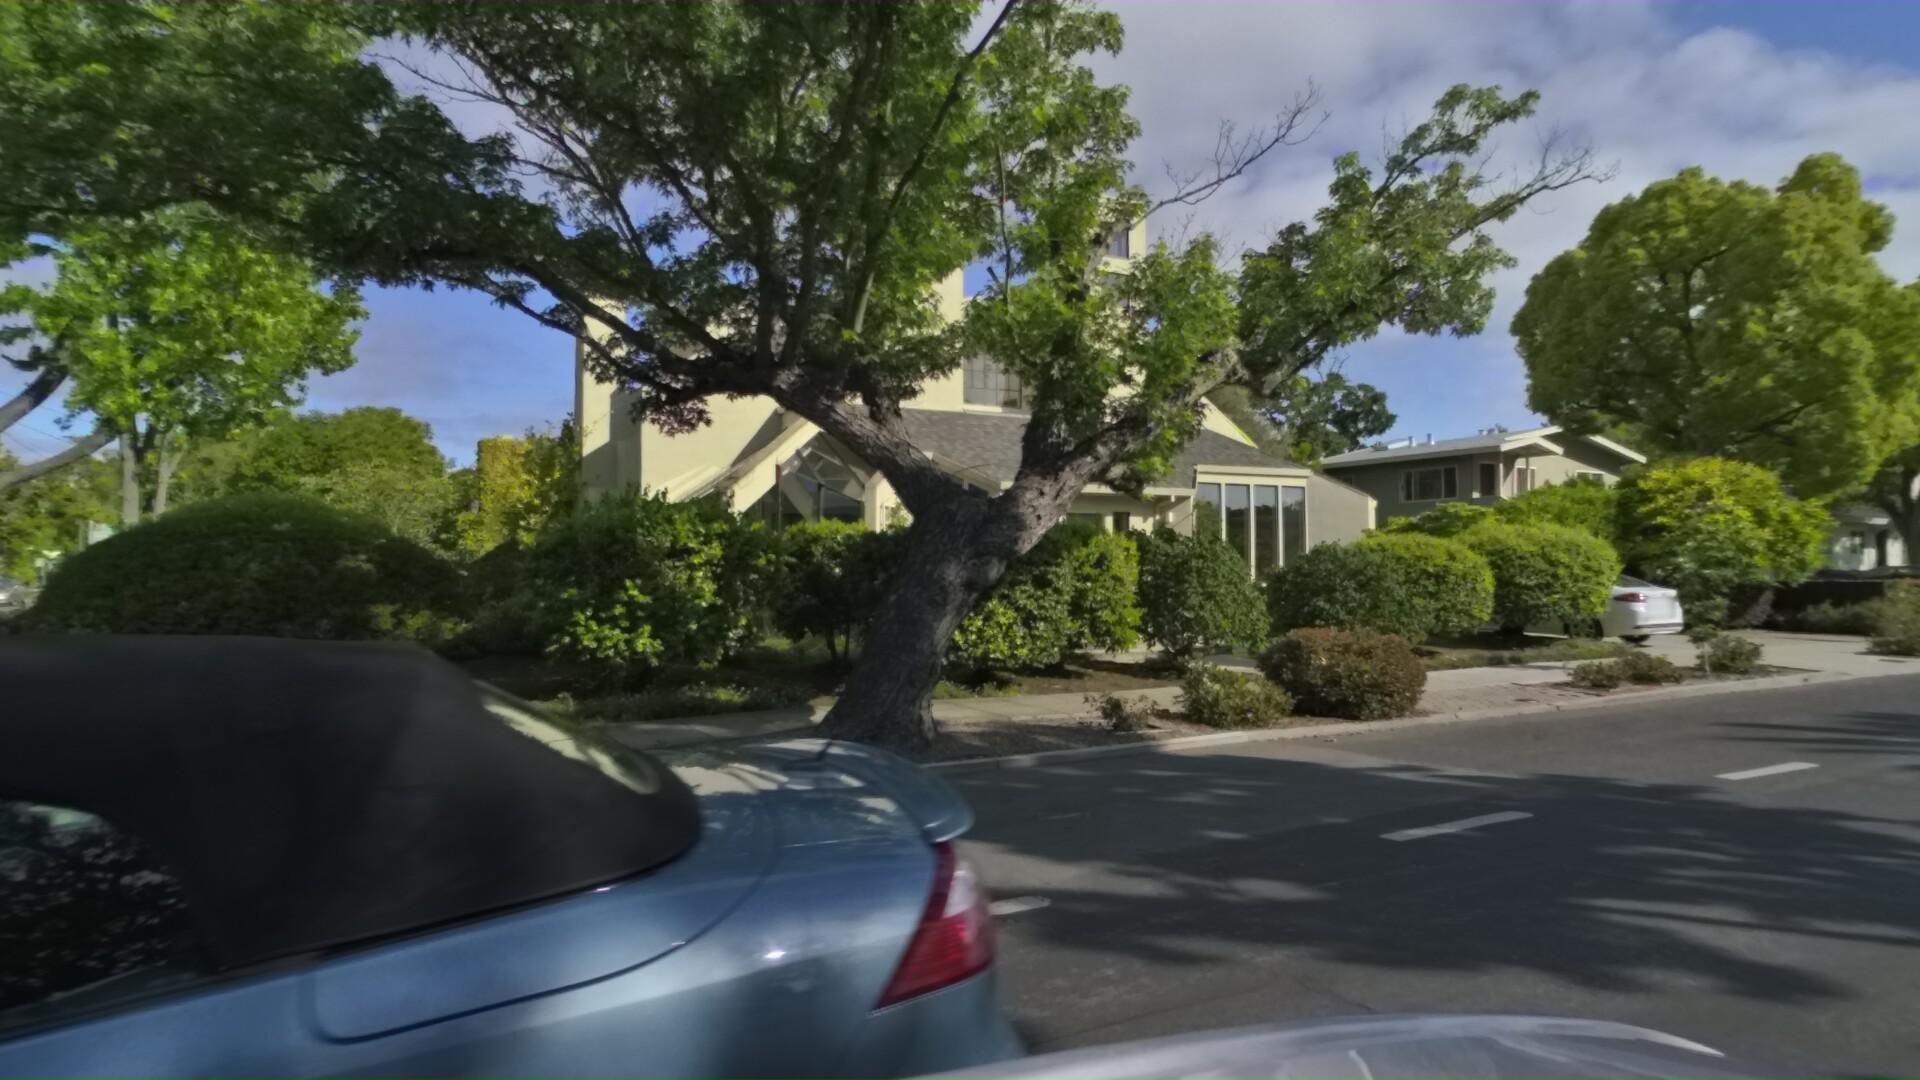car: (1416, 563, 1687, 653), (1783, 559, 1920, 620)
